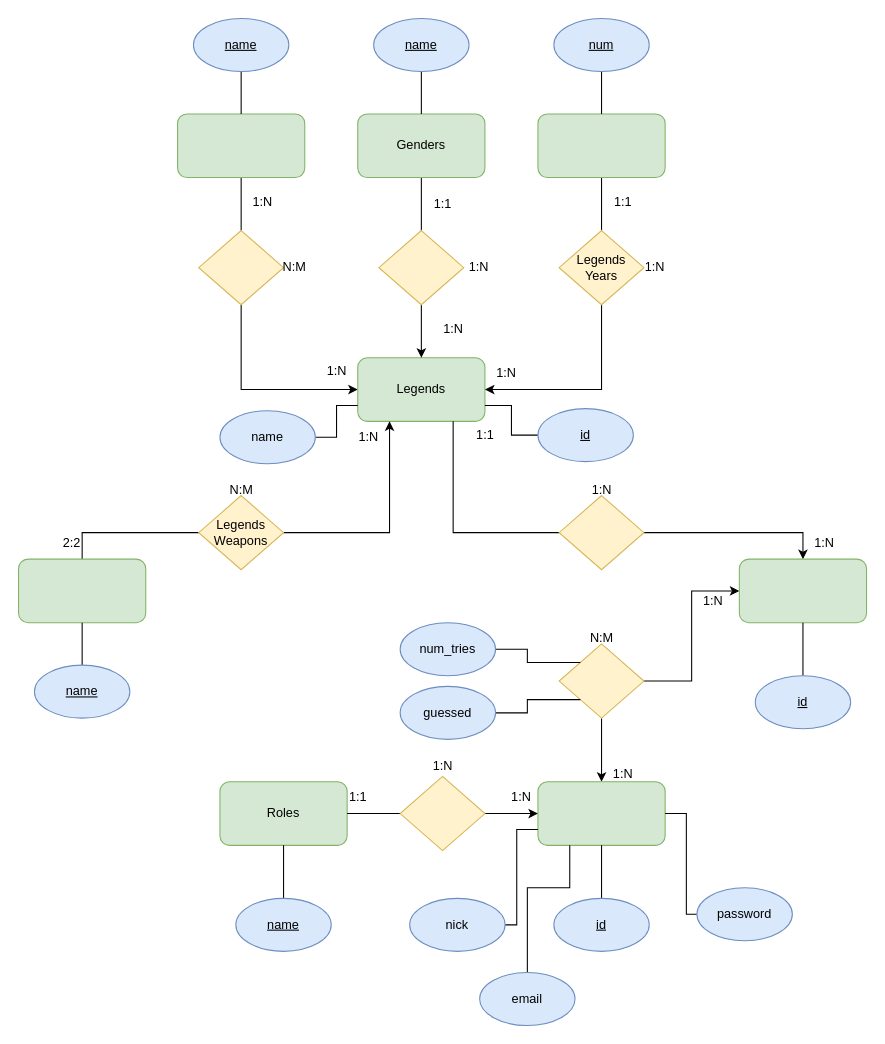
Image size: 885x1044. Some labels were removed from this diagram. Here are the shapes that lost their labels. From the top down, the centre of each, then its label:
At pixel 240 145: "Races".
At pixel 601 145: "Years".
At pixel 241 267: "Legends Races".
At pixel 421 267: "Legends Genders".
At pixel 601 532: "Legends Games".
At pixel 81 590: "Weapons".
At pixel 802 590: "Games".
At pixel 601 680: "Games Users".
At pixel 442 813: "Roles Users".
At pixel 601 813: "Users".
